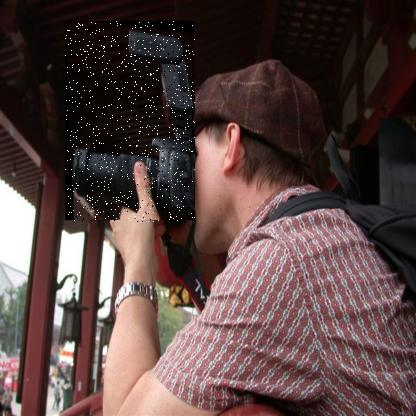Camera: (66, 23, 197, 225)
